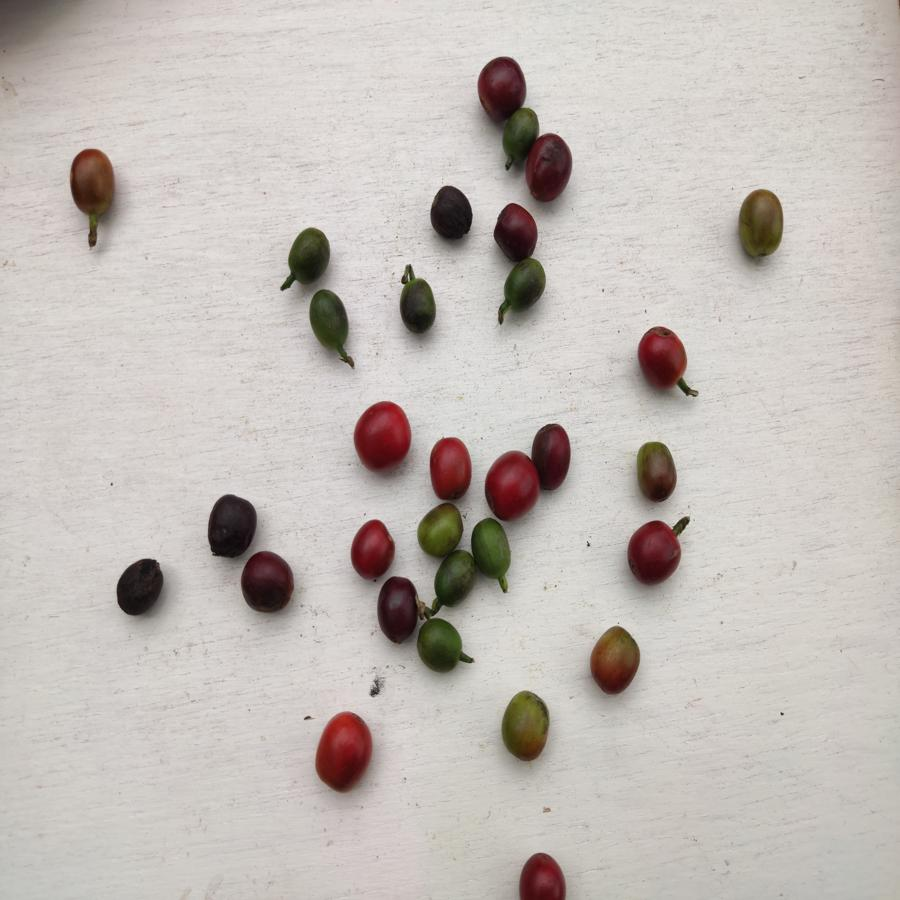Inmaduro: (308, 287, 352, 354), (470, 520, 517, 582), (285, 228, 332, 284), (431, 553, 477, 610), (501, 259, 549, 313), (417, 617, 463, 672), (400, 277, 440, 334), (501, 110, 534, 158)
Maduro: (309, 708, 375, 794), (351, 401, 416, 471), (631, 325, 687, 394), (484, 450, 539, 518), (426, 433, 475, 502), (349, 520, 399, 577), (517, 847, 569, 900)
Pinton: (588, 625, 641, 698), (498, 689, 550, 763), (68, 148, 117, 217), (740, 190, 783, 261), (635, 438, 678, 504), (417, 503, 463, 554)
Sobremaduro: (623, 516, 685, 585), (240, 549, 297, 614), (205, 493, 258, 559), (526, 132, 574, 199), (474, 55, 530, 109), (117, 558, 165, 618), (533, 423, 574, 492), (491, 202, 541, 258), (376, 574, 417, 642), (426, 186, 474, 244)
